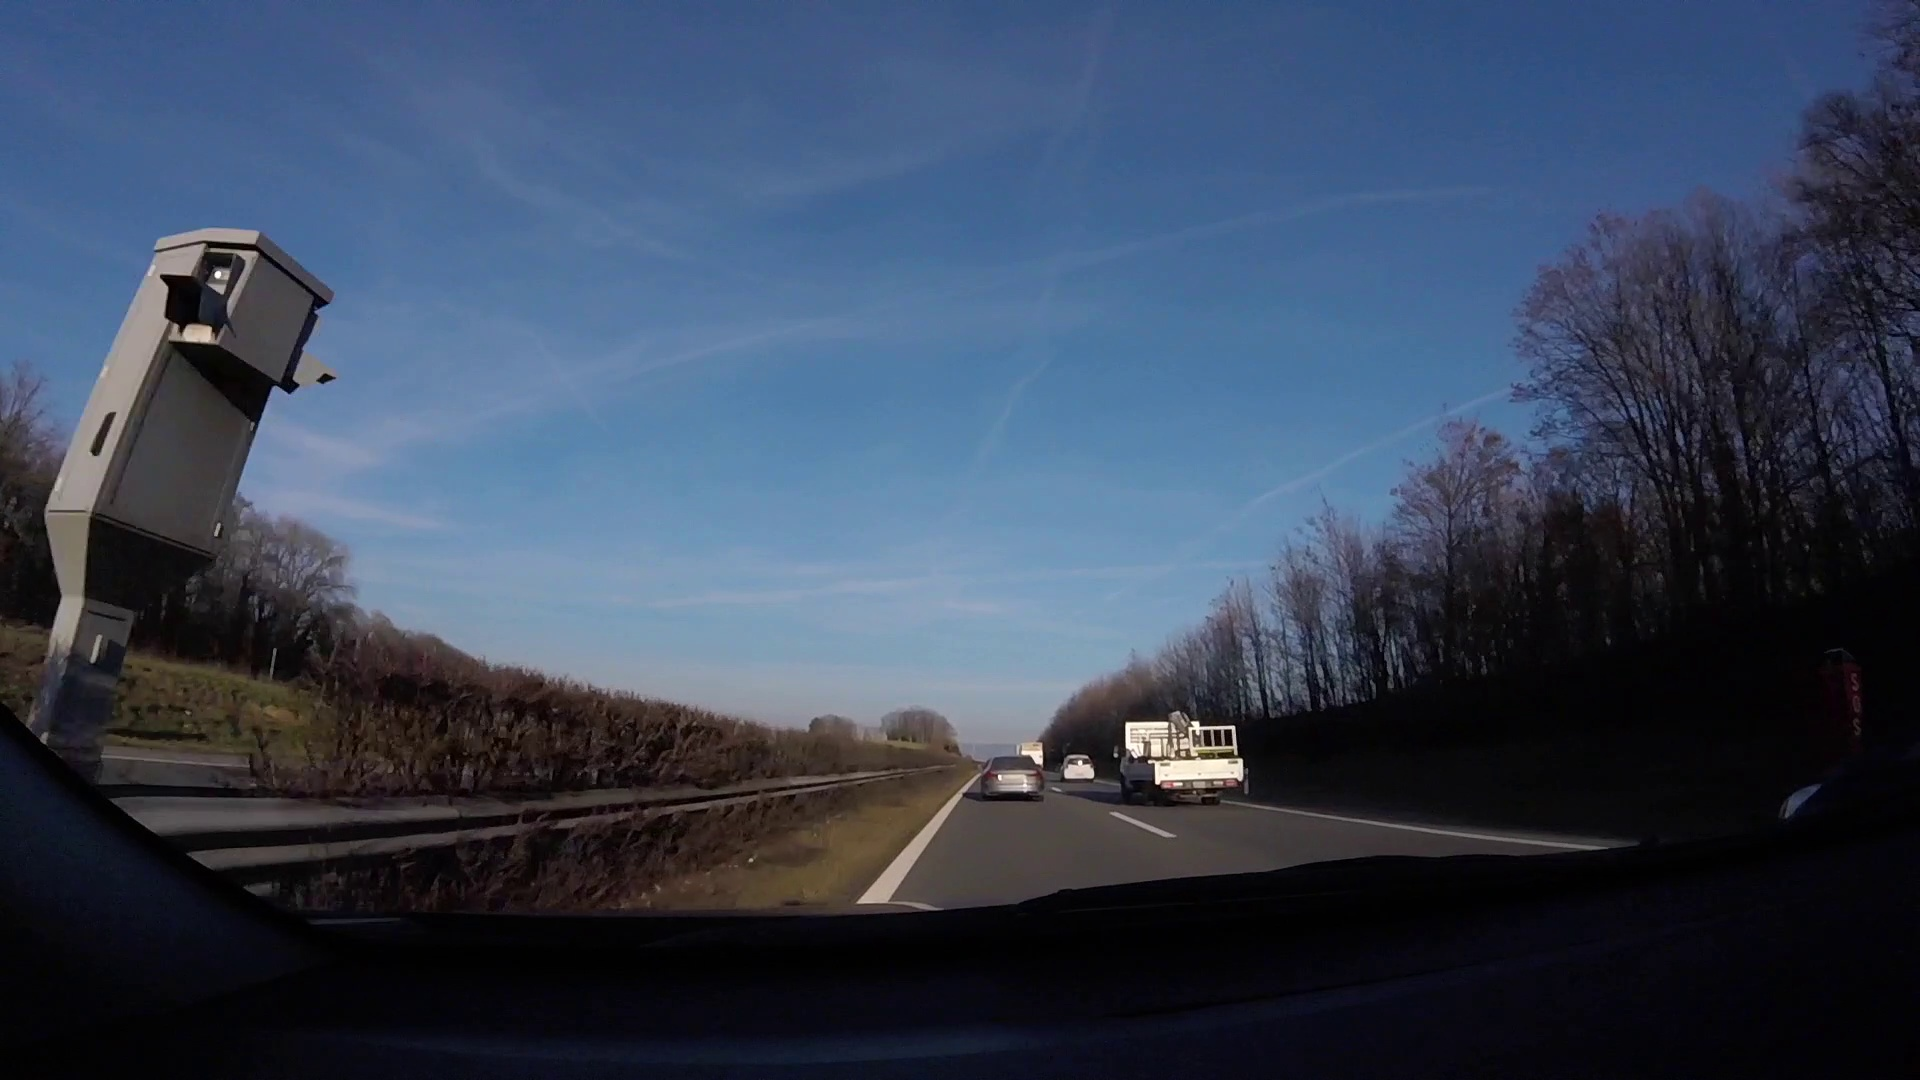radar: (47, 225, 335, 708)
